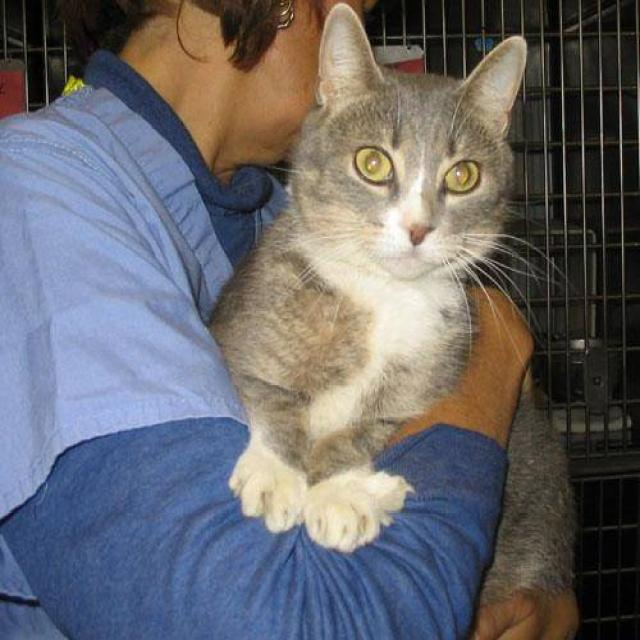cat: (204, 2, 578, 604)
